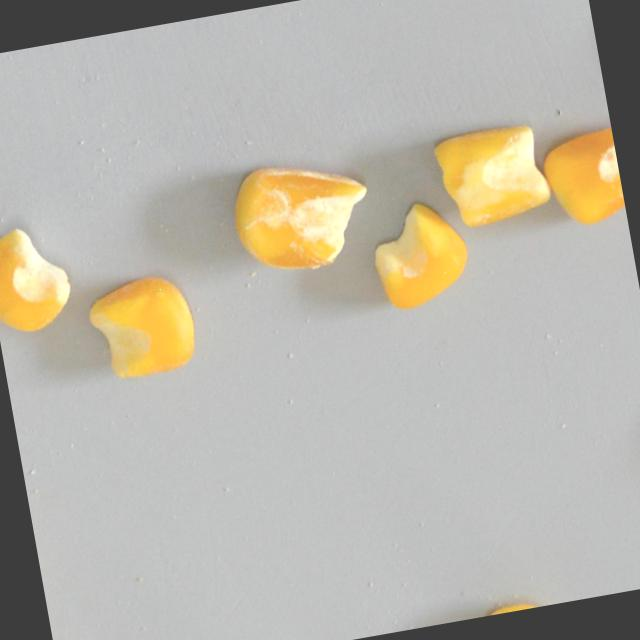no_canjicado: (430, 121, 550, 233), (82, 271, 199, 384), (363, 195, 473, 313), (537, 124, 627, 232), (0, 219, 75, 336)
pelicula: (222, 153, 377, 281)
